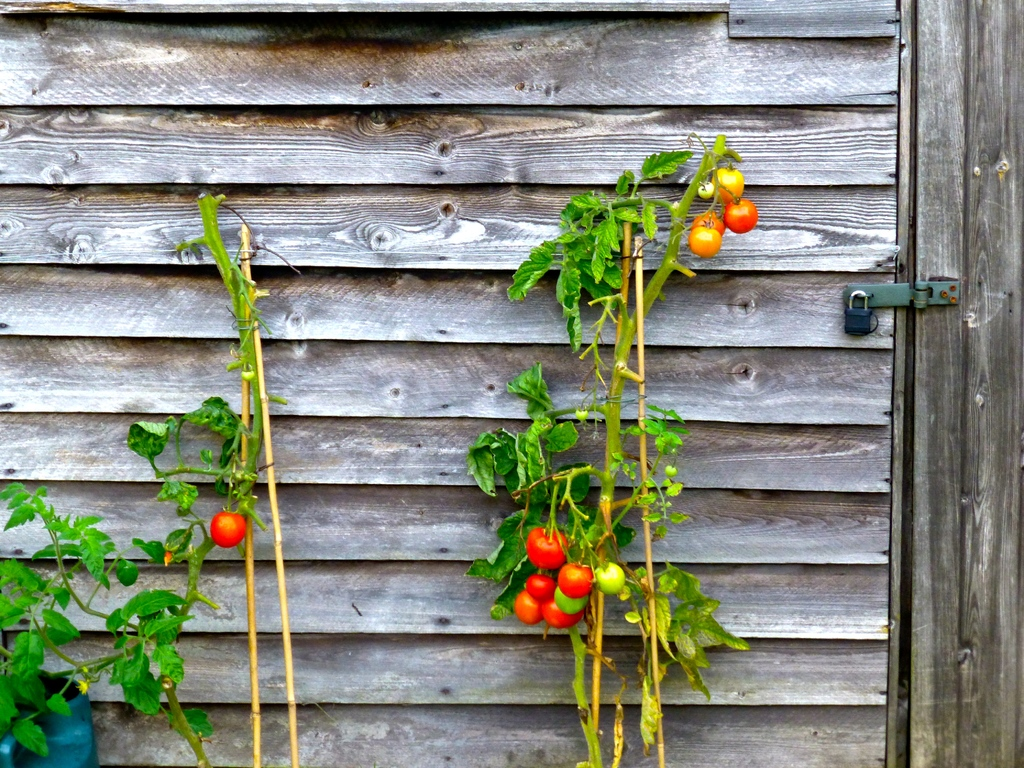Tomato: (515, 536, 589, 617), (721, 194, 757, 235), (209, 512, 248, 547), (711, 163, 744, 203), (686, 227, 721, 256), (595, 560, 621, 596), (693, 213, 721, 235)
